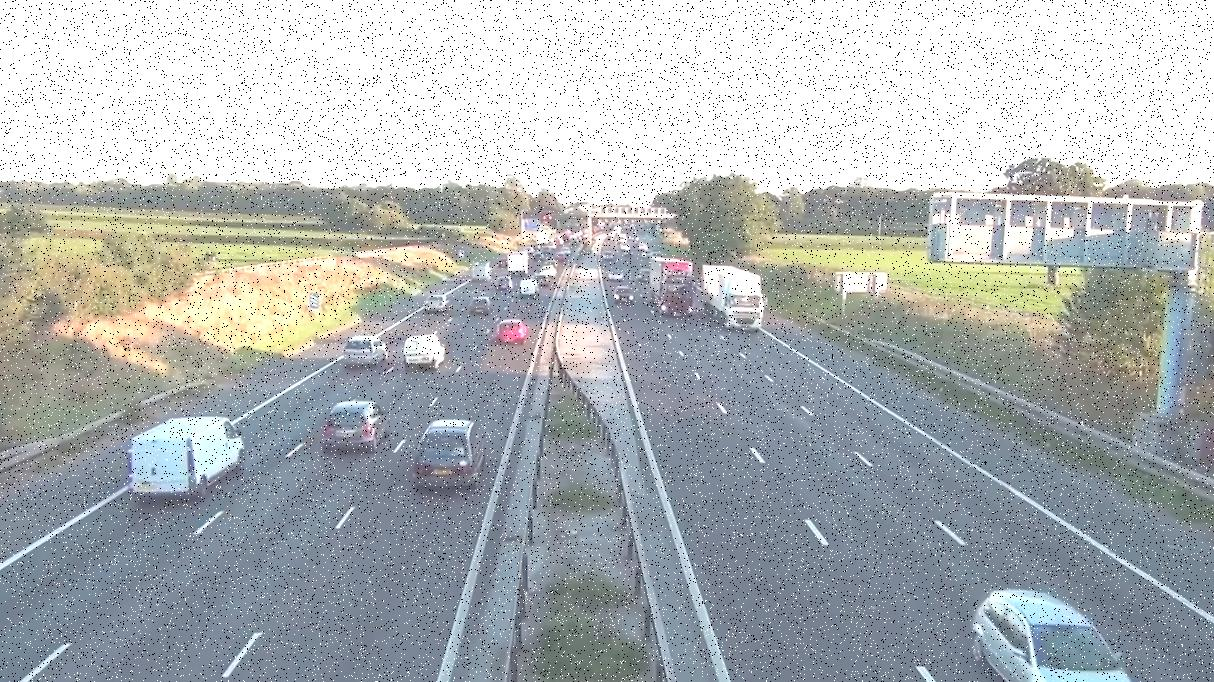car: (975, 584, 1151, 682), (125, 414, 249, 497), (324, 401, 386, 440), (402, 333, 443, 369), (341, 336, 385, 365), (421, 419, 474, 441), (491, 320, 525, 345), (467, 295, 493, 315), (611, 287, 635, 305), (425, 294, 448, 311)
truck: (701, 265, 768, 331), (656, 255, 700, 313)
